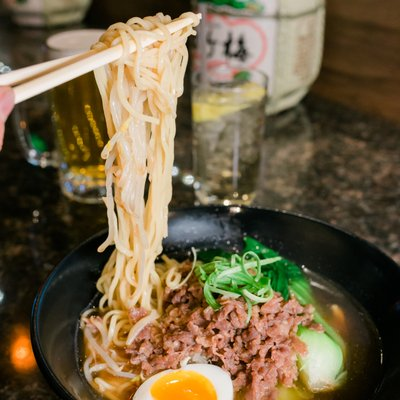burger: (188, 1, 275, 205)
